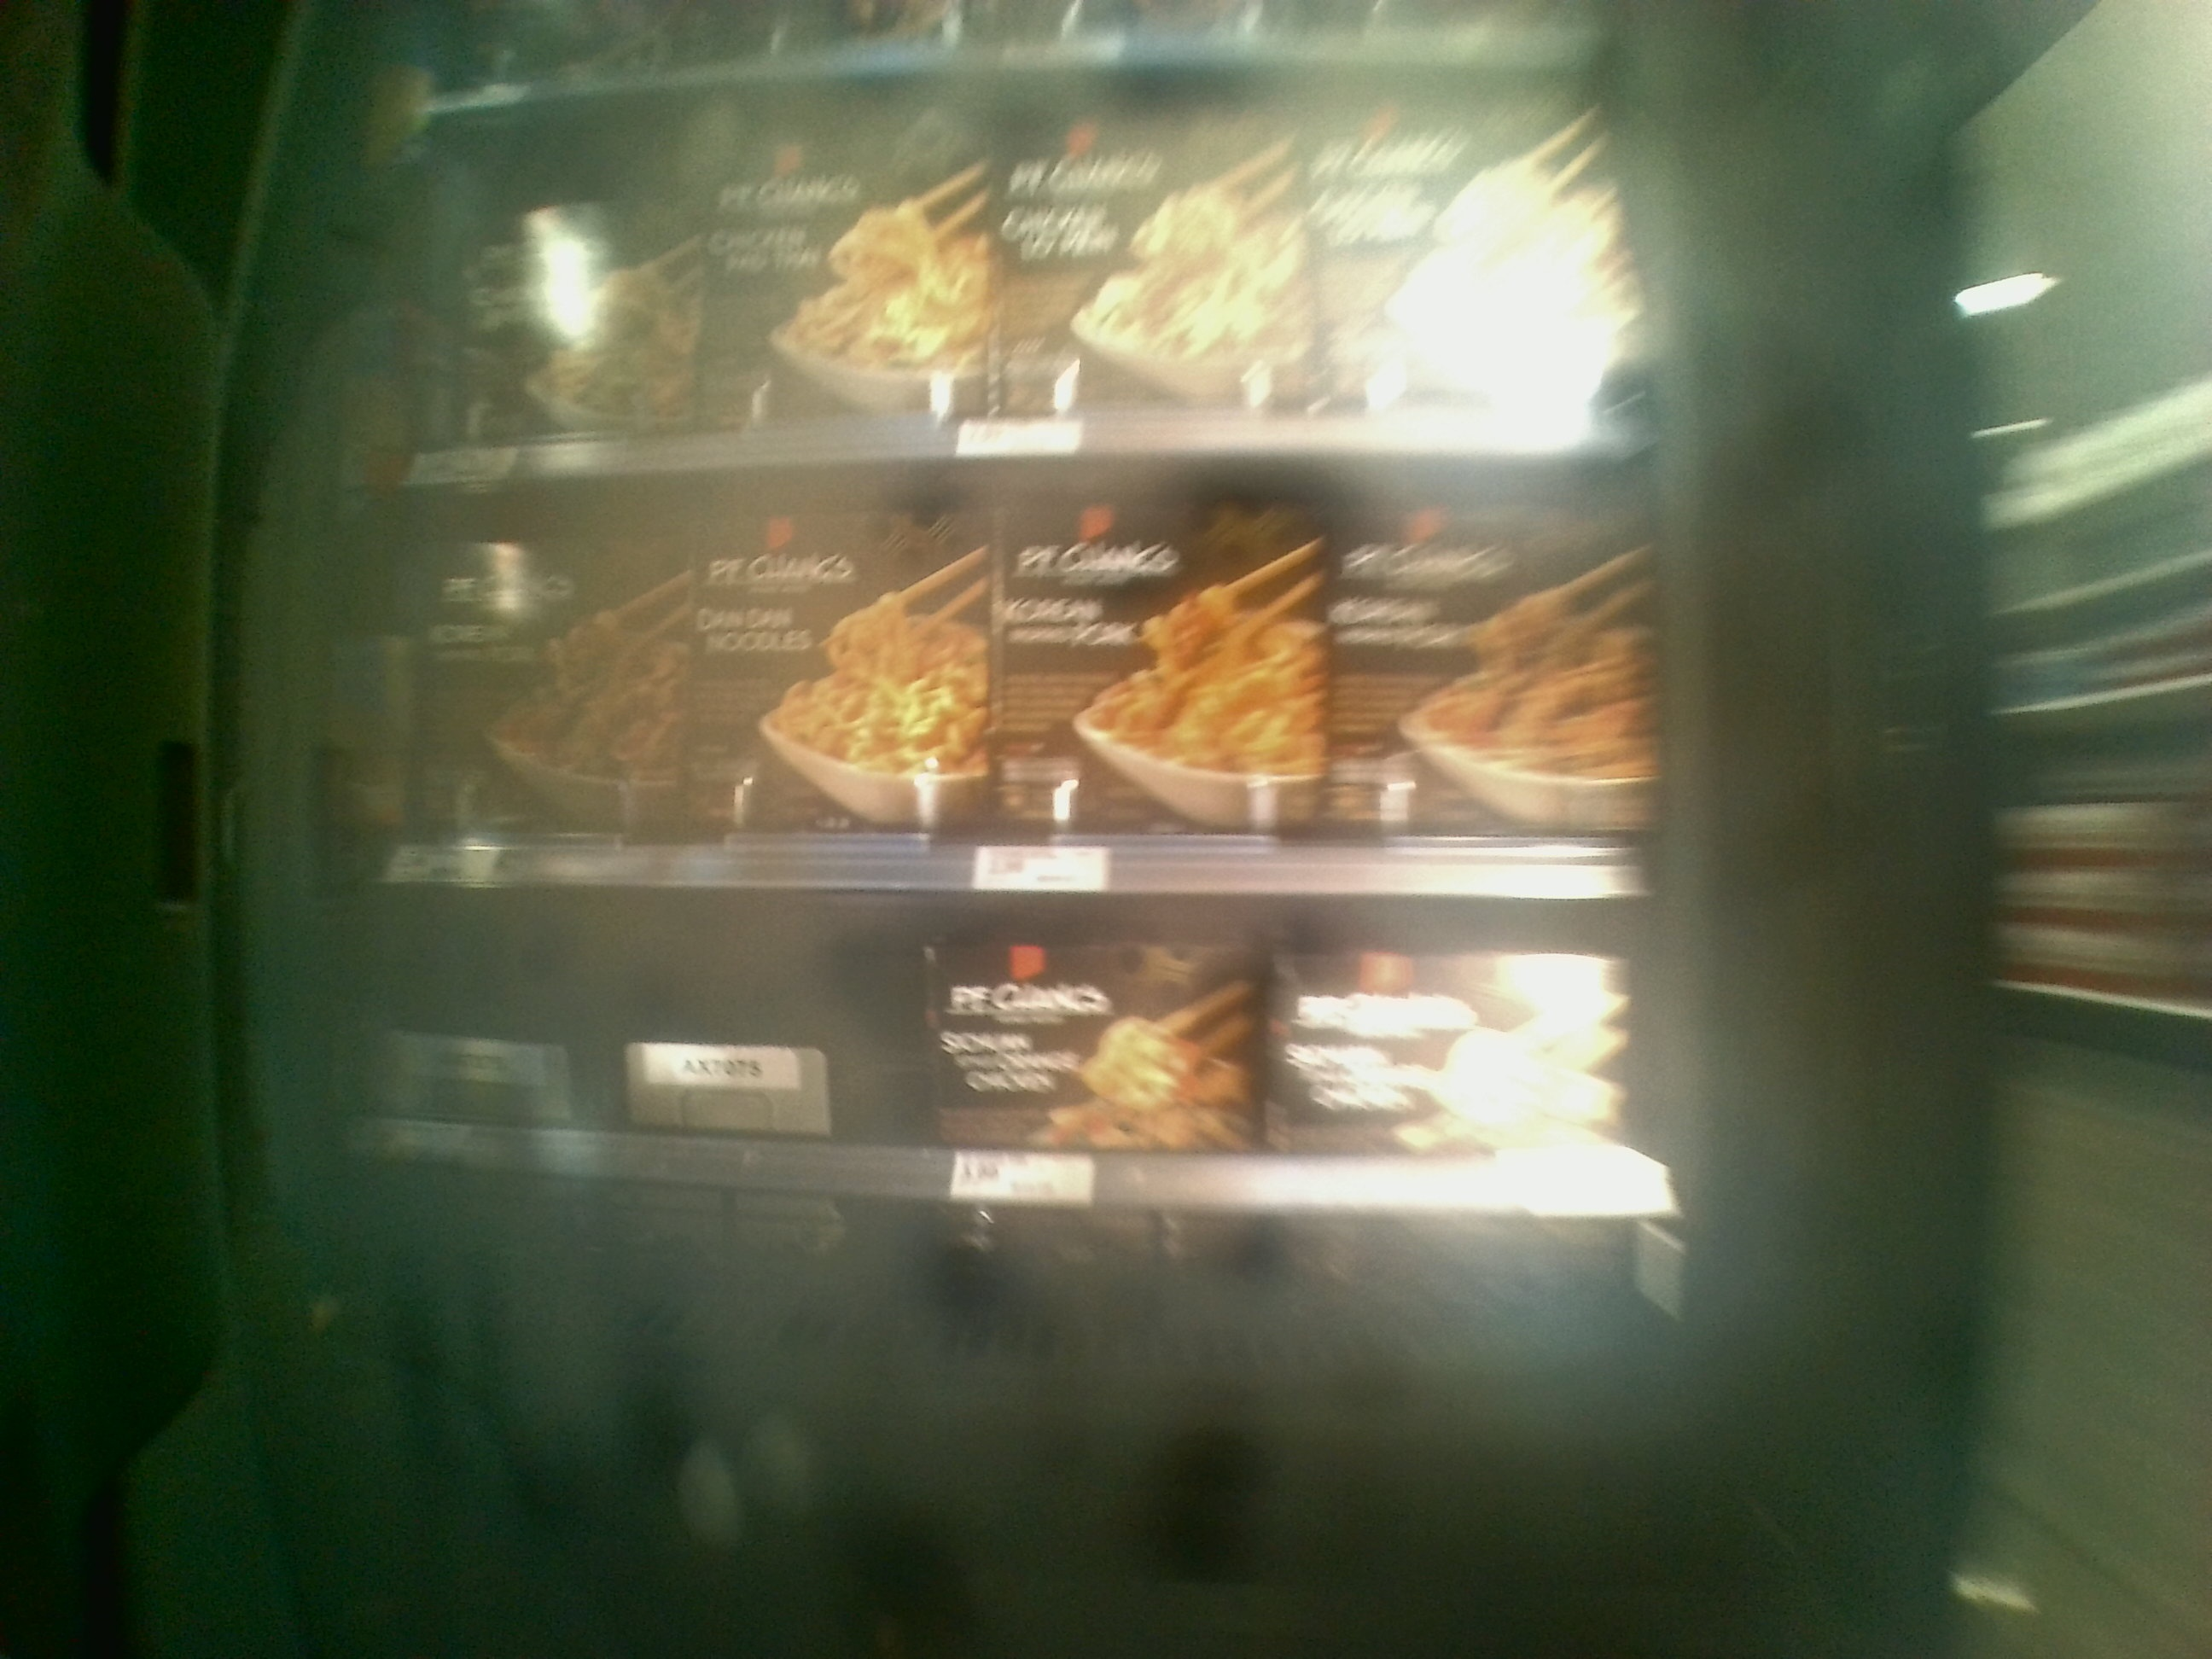shelf: (348, 873, 1709, 1389), (381, 462, 1669, 903)
